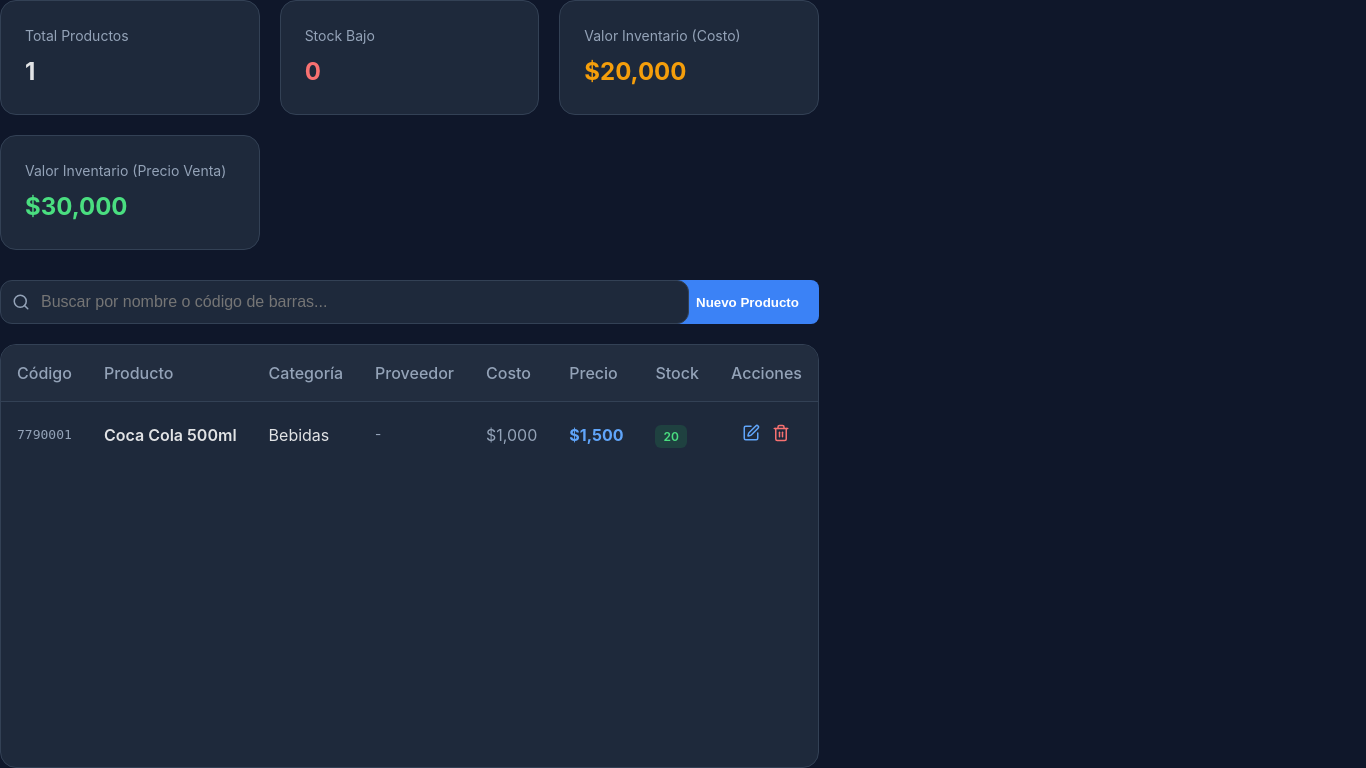
Test: Inventario – product modal › shows "Editar Producto" heading when editing an existing product
Check: the text "Coca Cola 500ml" is shown, box [88,402,253,467]
// Edit button is the 2nd button (index 1) — after "Nuevo Producto" (index 0)
Click the 2nd button.
click(751, 434)  # box [736,418,766,451]
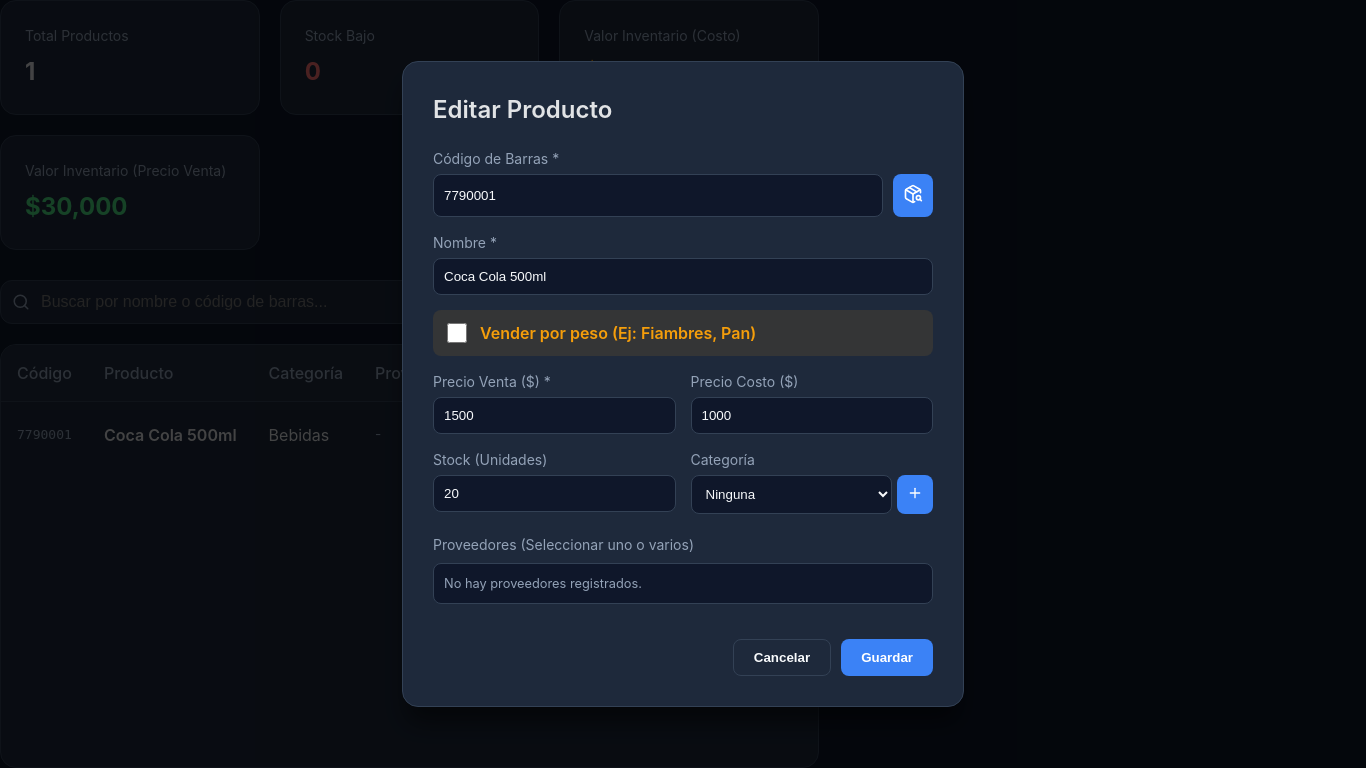
Check: the heading "Editar Producto" is shown, box [433,95,612,124]
